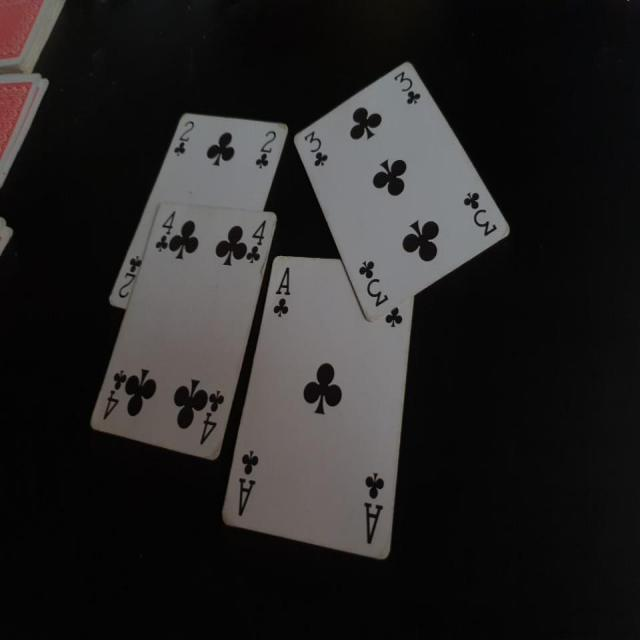2 Trefoils: (108, 106, 289, 309)
3 Trefoils: (294, 55, 511, 322)
4 Trefoils: (90, 202, 277, 462)
A Trefoils: (218, 252, 415, 561)
